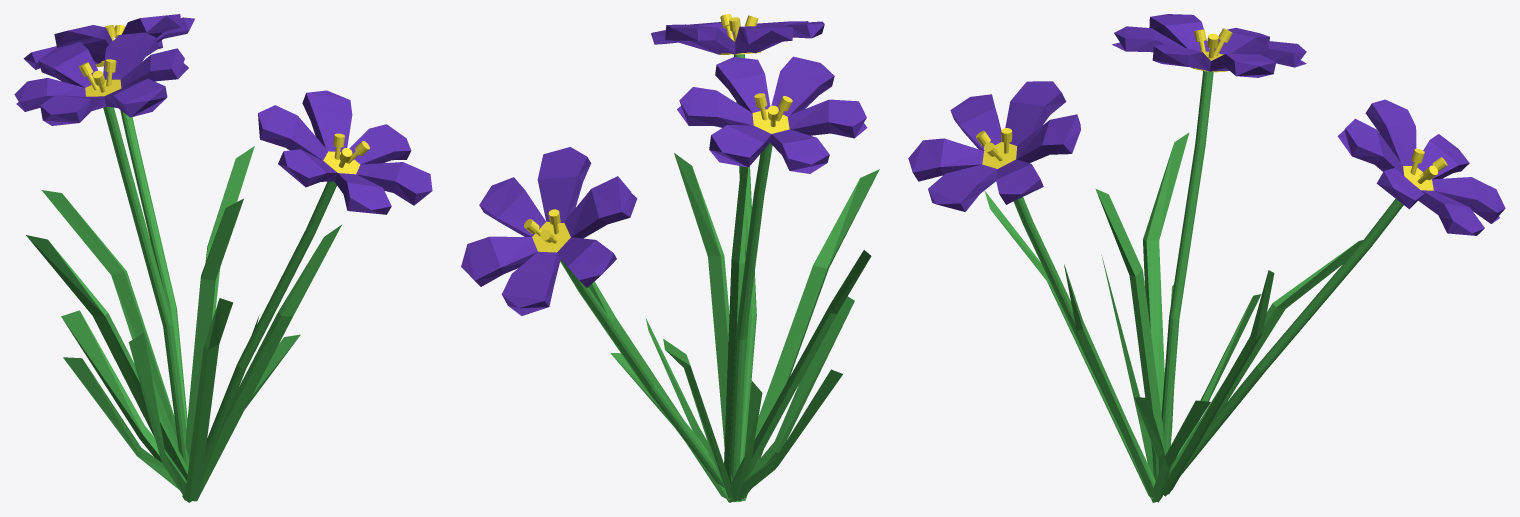
File: blueEyed.glb
3 renders of one model, left to right at view 1: azimuth 30°, elevation 25°; view 2: azimuth 150°, elevation 25°; view 3: azimuth 270°, elevation 25°, orthographic. The views are drawn at different scales.
Visible parts, largest first — view 1: group1570621783, group1001520448, group287926631, group904756982, group565723572, group690264530, group2009641497, group997633305, group1946222413, group30746747, group1385647550, group1236532255; view 2: group1001520448, group1570621783, group287926631, group565723572, group904756982, group30746747, group1946222413, group997633305, group2009641497, group1385647550, group1236532255, group690264530 (+1 smaller); view 3: group1570621783, group1001520448, group287926631, group904756982, group565723572, group30746747, group997633305, group1946222413, group2009641497, group1385647550, group1236532255.
Part boxes in pixels (x1,y1,x2,y2): group1570621783: [128, 90, 432, 502]; group1001520448: [23, 14, 300, 462]; group287926631: [103, 106, 189, 467]; group904756982: [26, 235, 188, 480]; group565723572: [185, 198, 243, 459]; group690264530: [63, 357, 179, 489]; group2009641497: [38, 42, 97, 87]; group997633305: [103, 32, 158, 79]; group1946222413: [104, 78, 167, 117]; group30746747: [40, 95, 106, 125]; group1385647550: [120, 48, 188, 88]; group1236532255: [14, 78, 85, 111]; group1001520448: [461, 147, 762, 502]; group1570621783: [610, 14, 879, 502]; group287926631: [729, 143, 772, 479]; group565723572: [724, 166, 747, 483]; group904756982: [734, 250, 871, 500]; group30746747: [787, 99, 867, 138]; group1946222413: [771, 56, 834, 116]; group997633305: [677, 87, 753, 127]; group2009641497: [709, 125, 771, 167]; group1385647550: [715, 57, 770, 112]; group1236532255: [770, 129, 829, 173]; group690264530: [734, 369, 842, 501]; group1570621783: [908, 81, 1210, 502]; group1001520448: [1134, 99, 1505, 496]; group287926631: [1161, 71, 1213, 455]; group904756982: [1143, 132, 1189, 481]; group565723572: [1095, 188, 1164, 492]; group30746747: [1149, 14, 1209, 51]; group997633305: [1210, 54, 1276, 77]; group1946222413: [1112, 26, 1184, 52]; group2009641497: [1233, 41, 1306, 67]; group1385647550: [1152, 43, 1210, 71]; group1236532255: [1214, 28, 1269, 54].
Bounding box in the file's own units: 0.3171 × 0.4474 × 0.5422.
